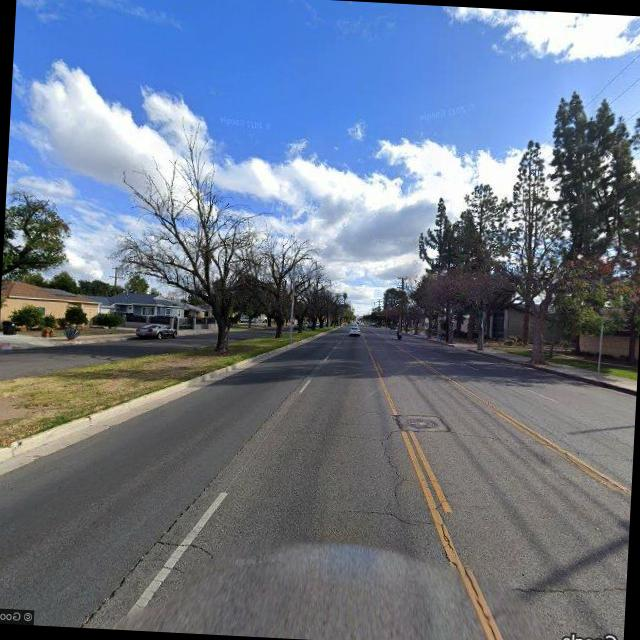crack: (354, 397, 514, 640), (340, 422, 630, 458), (506, 568, 627, 604), (160, 537, 222, 561)
